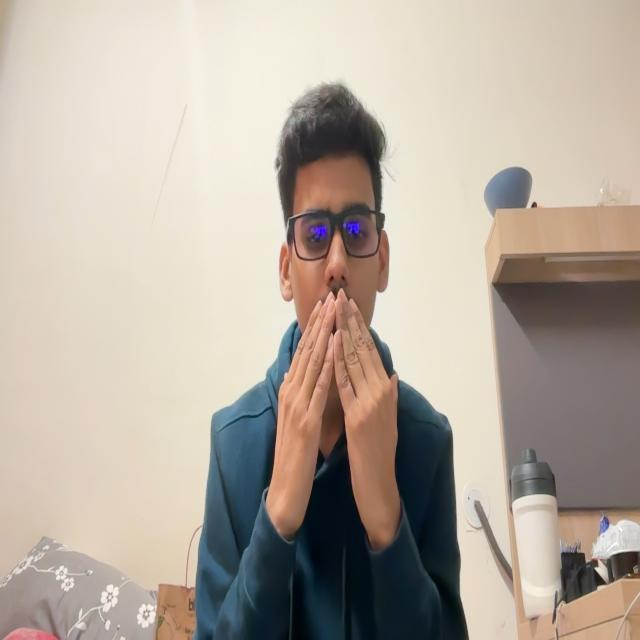Thanks: (255, 278, 434, 532)
